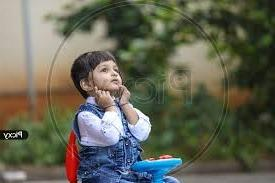Human: (61, 51, 190, 183)
